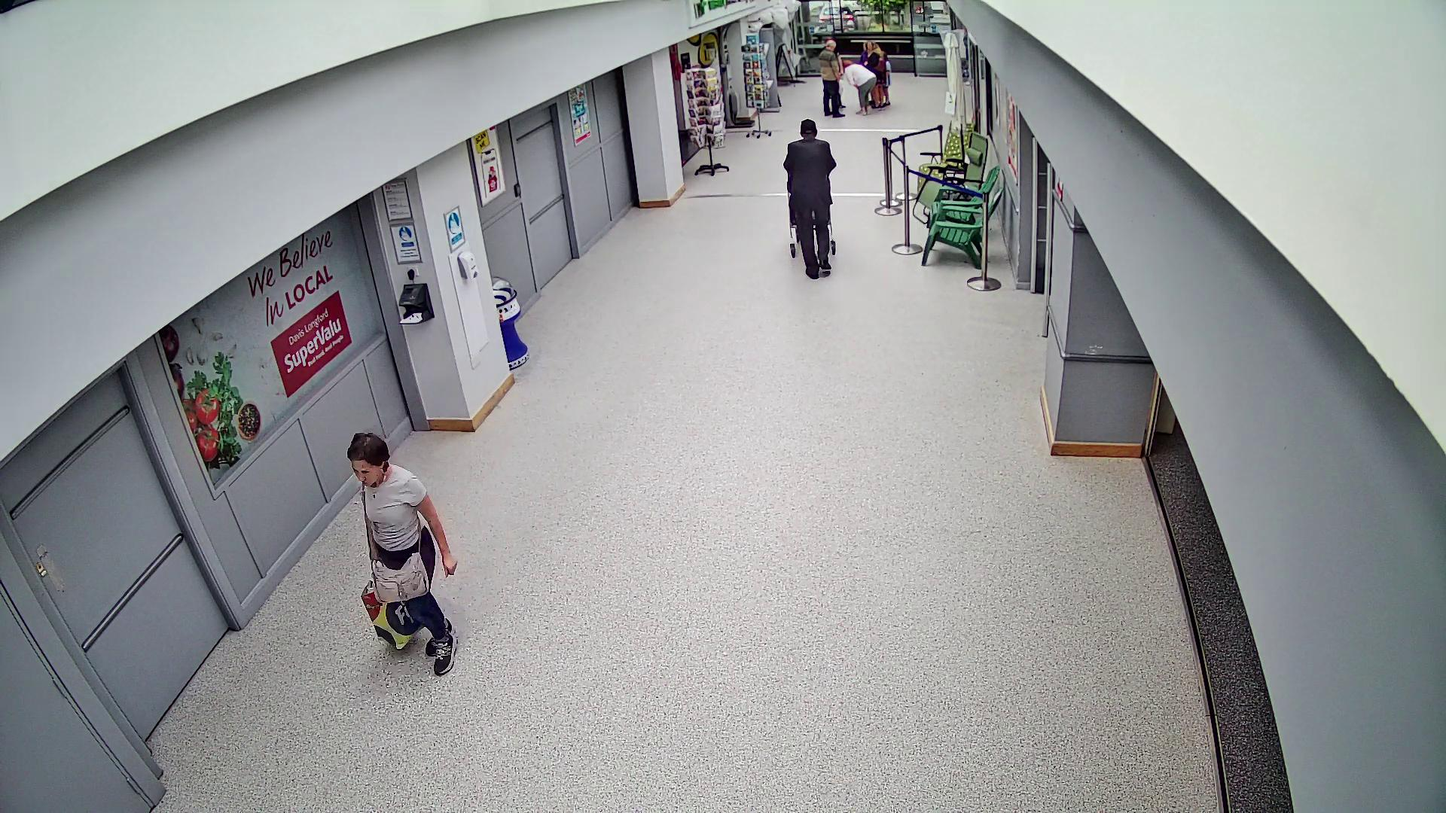backpack-or-handbag: (370, 551, 430, 602)
filled-shopping-bags: (360, 572, 424, 649)
person: (347, 432, 458, 676)
person-with-backpack-handbag-and-shopping-bag-s-: (347, 430, 459, 675)
